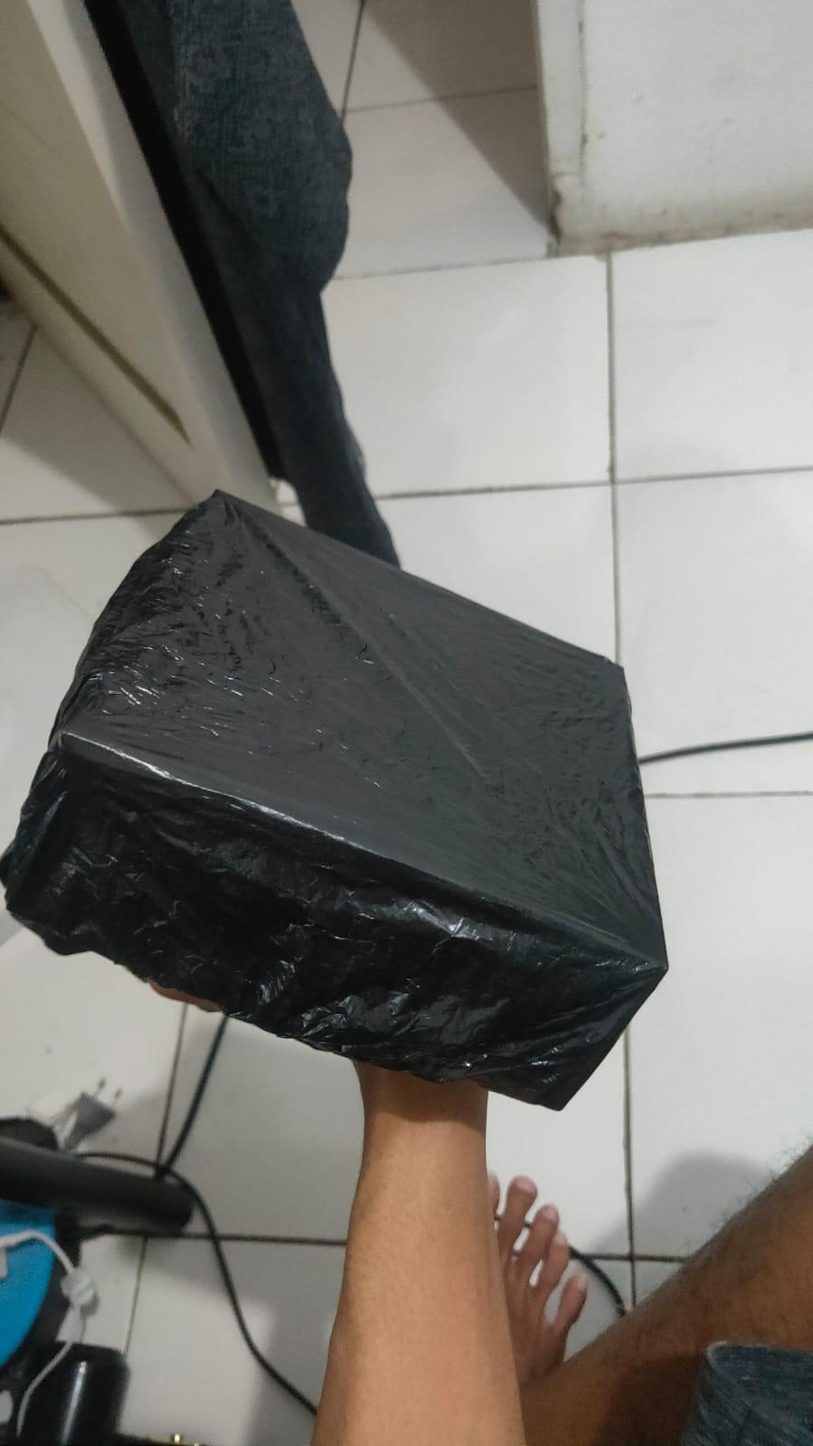undamaged: (0, 468, 681, 1129)
